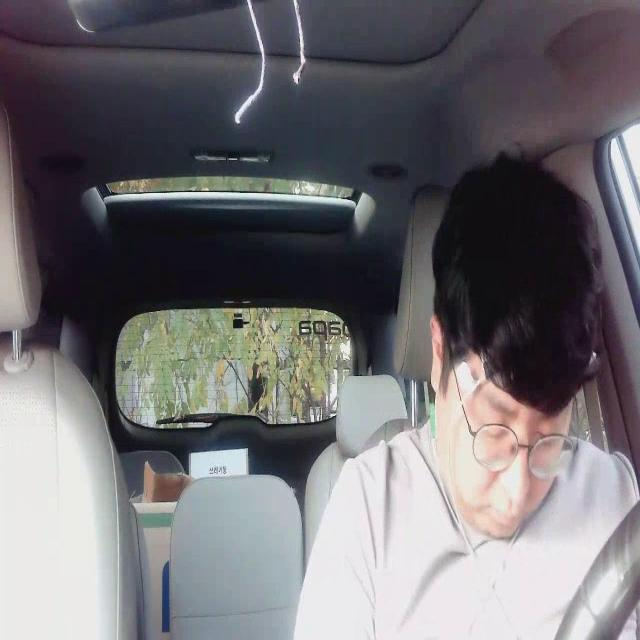Inattentive: (429, 148, 605, 532)
